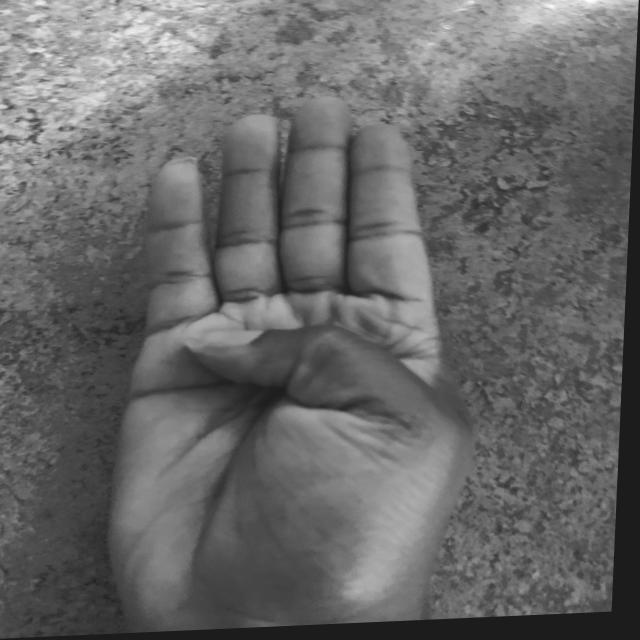B: (96, 86, 505, 635)
